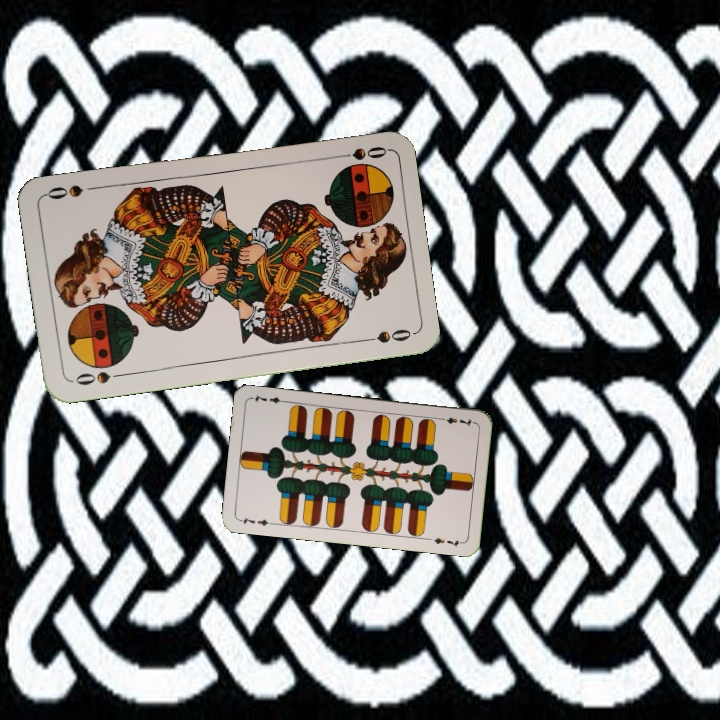E7: (436, 413, 476, 429), (236, 512, 276, 528)
SO: (329, 142, 389, 163), (71, 367, 127, 388)
